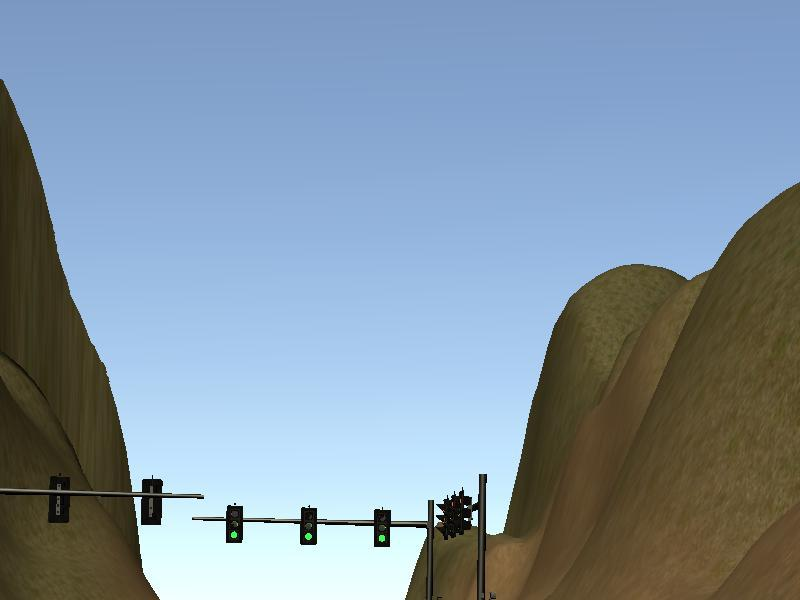Green: (225, 507, 242, 542), (374, 510, 391, 545), (301, 508, 317, 543)
